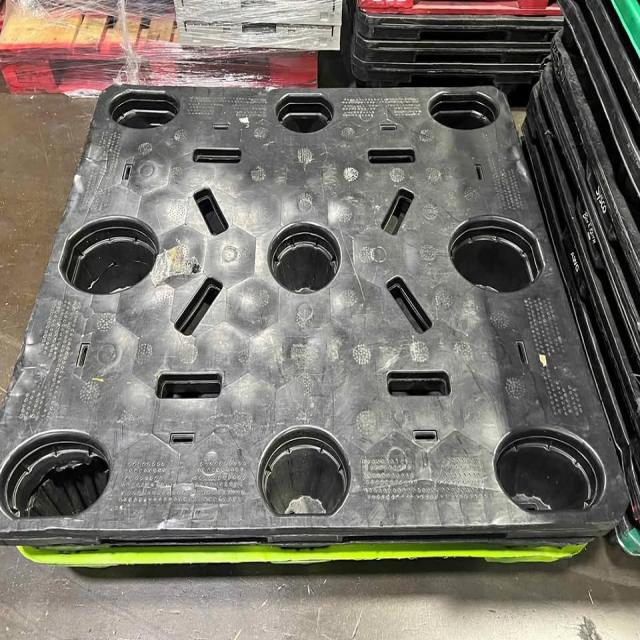non-igps: (1, 79, 633, 576), (518, 110, 640, 562), (523, 75, 640, 450), (535, 47, 640, 393), (0, 0, 322, 105), (546, 21, 640, 298), (553, 0, 640, 209), (347, 48, 558, 114), (348, 0, 567, 47), (347, 22, 557, 70), (581, 0, 640, 129), (353, 0, 567, 22)
